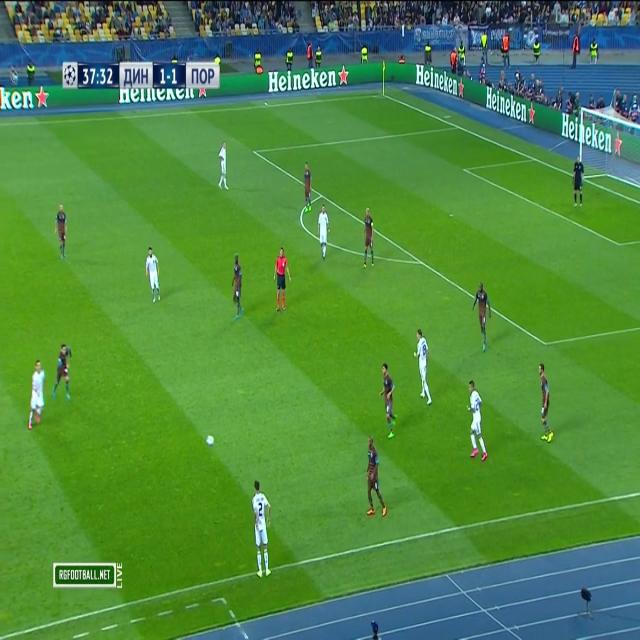Ball: (205, 431, 216, 448)
Goalkeeper: (570, 154, 584, 208)
Player: (250, 479, 273, 583), (466, 378, 489, 467), (364, 434, 388, 518), (536, 360, 557, 444), (471, 280, 494, 353), (377, 362, 398, 441), (414, 328, 434, 408), (27, 354, 47, 432), (51, 343, 74, 403), (144, 243, 164, 306), (361, 205, 376, 274), (230, 251, 244, 324), (316, 200, 332, 262), (52, 202, 68, 261), (216, 139, 230, 192), (302, 159, 314, 217)
Referee: (271, 246, 292, 315)
